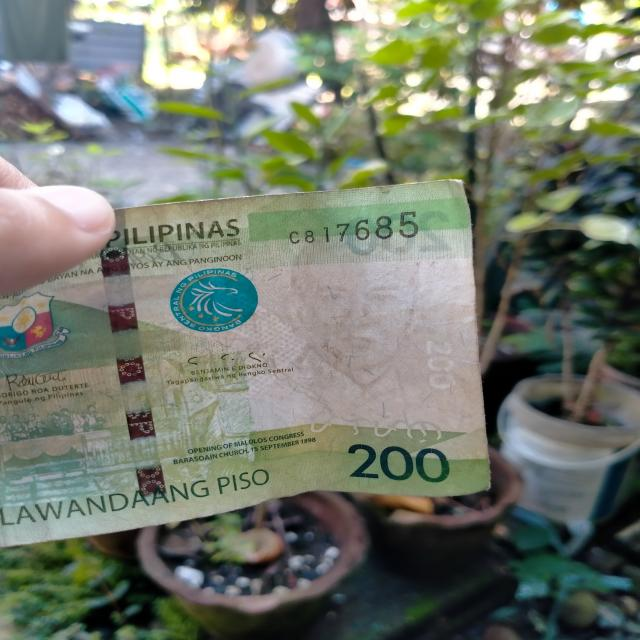security_thread: (98, 203, 167, 518)
see_through_mark: (288, 409, 448, 449)
serial_number: (288, 207, 419, 254)
value_watermark: (424, 336, 460, 394)
watermark: (268, 230, 430, 417)
